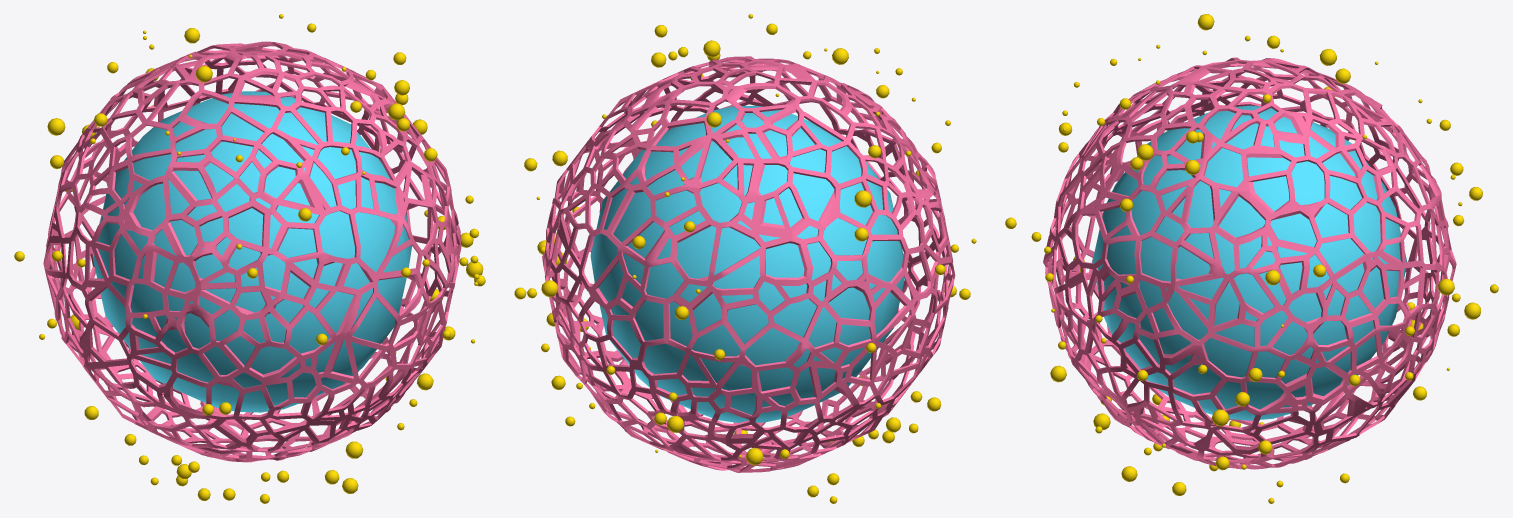
The picture shows the model from 3 angles, left to right: view 1: azimuth 30°, elevation 25°; view 2: azimuth 150°, elevation 25°; view 3: azimuth 270°, elevation 25°; orthographic projection. The views are drawn at different scales.
Visible parts, largest first — view 1: Sphere_fracturepart1, Sphere, Random; view 2: Sphere_fracturepart1, Sphere, Random; view 3: Sphere_fracturepart1, Sphere, Random.
Part boxes in pixels (box(x1,y1,x2,y2)): Sphere_fracturepart1: box(43, 41, 461, 462); Sphere: box(93, 91, 411, 412); Random: box(14, 14, 485, 503); Sphere_fracturepart1: box(542, 56, 955, 472); Sphere: box(590, 105, 904, 422); Random: box(514, 14, 976, 503); Sphere_fracturepart1: box(1043, 57, 1456, 469); Sphere: box(1092, 105, 1407, 420); Random: box(1005, 14, 1498, 503).
Size of the model in its own units: 227 by 227 by 238.
